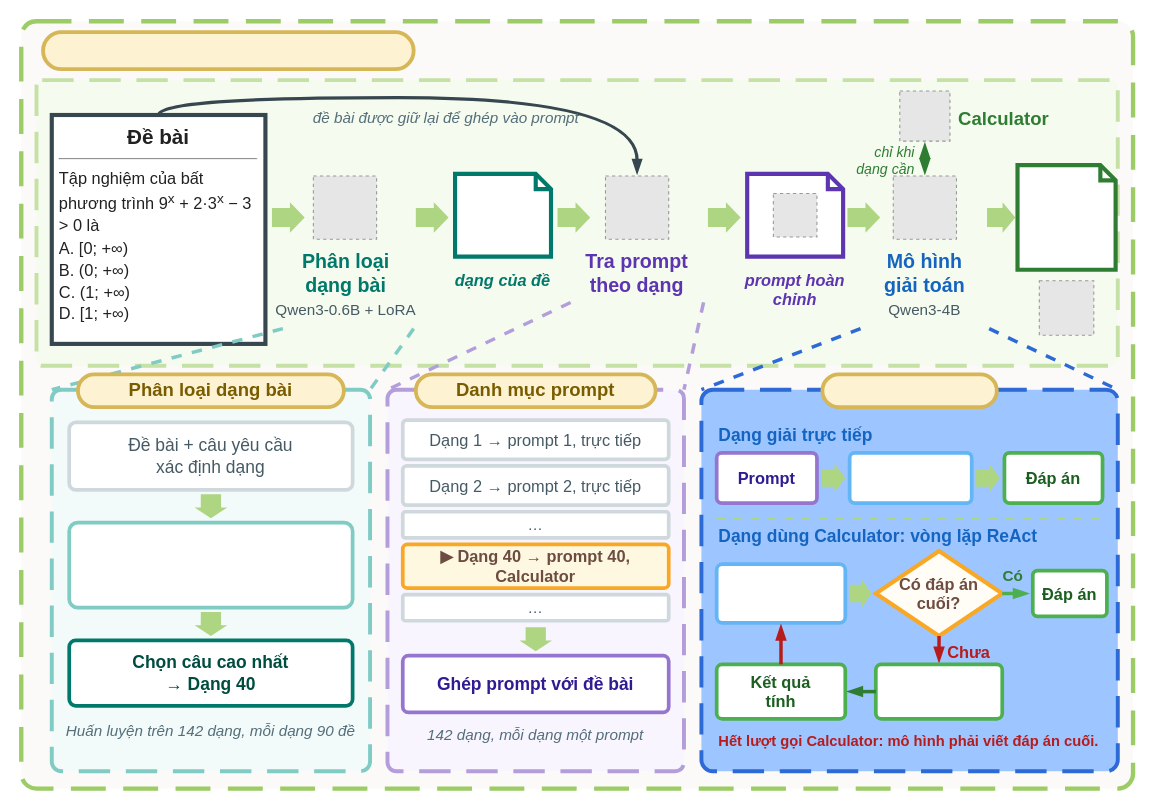
Some shapes in this 1153 by 809 pixel diagram are drawn without their labels. Grey dashed boxes stand in for pictures. The shapes that lost their labels are listed below. From the top down, each one's centre as x and y in pixels, then its label:
At point (228, 50): "Hệ thống giải Toán tự động".
At point (502, 214): "Dạng 40".
At point (1066, 217): "Đáp án B".
At point (909, 390): "Giải toán".
At point (910, 477): "Mô hình trả lời".
At point (210, 564): "Tính xác suất của 142 câu «Dạng N: mô tả»".
At point (780, 593): "Mô hình viết suy nghĩ".
At point (938, 691): "Calculator tính".
